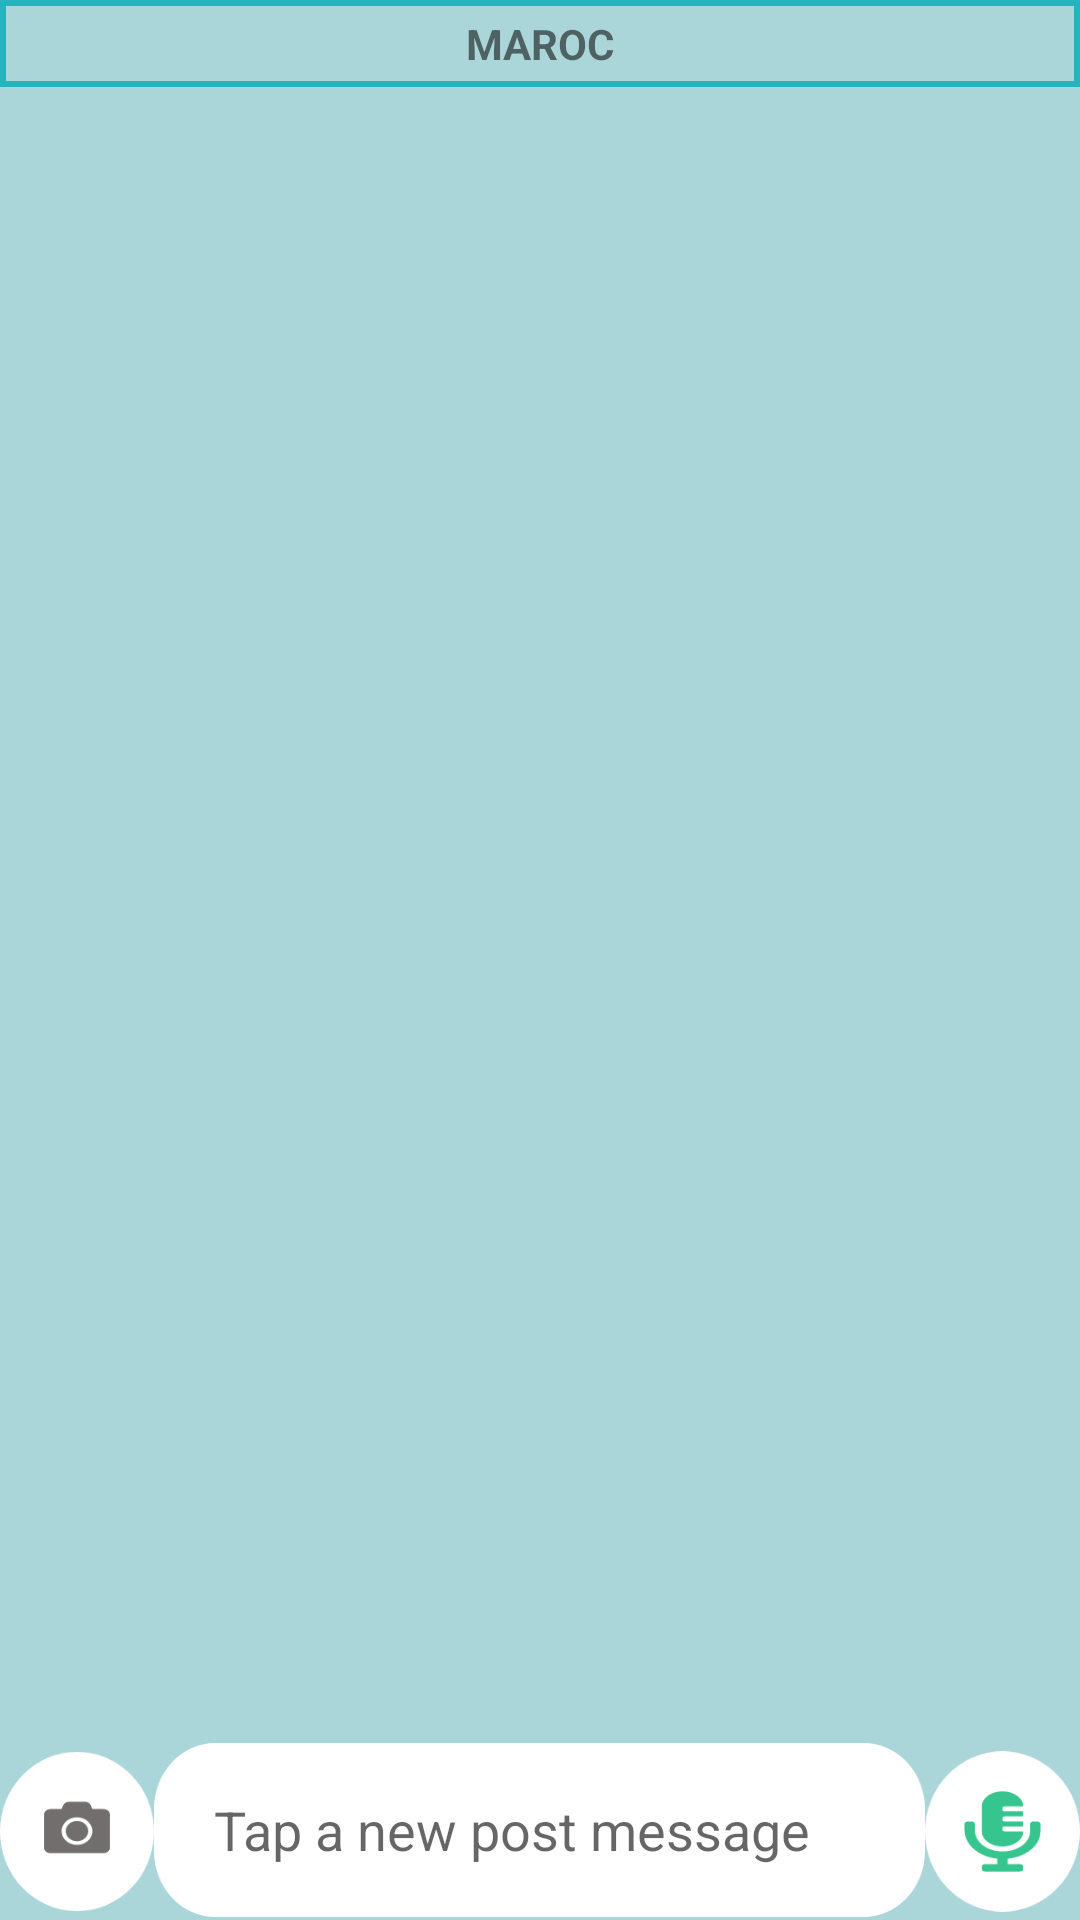

Screen size 1080 × 1920. Icon name, then its center in pixels as [x,y]:
cam: [77,1831]
vocal: [1002,1831]
